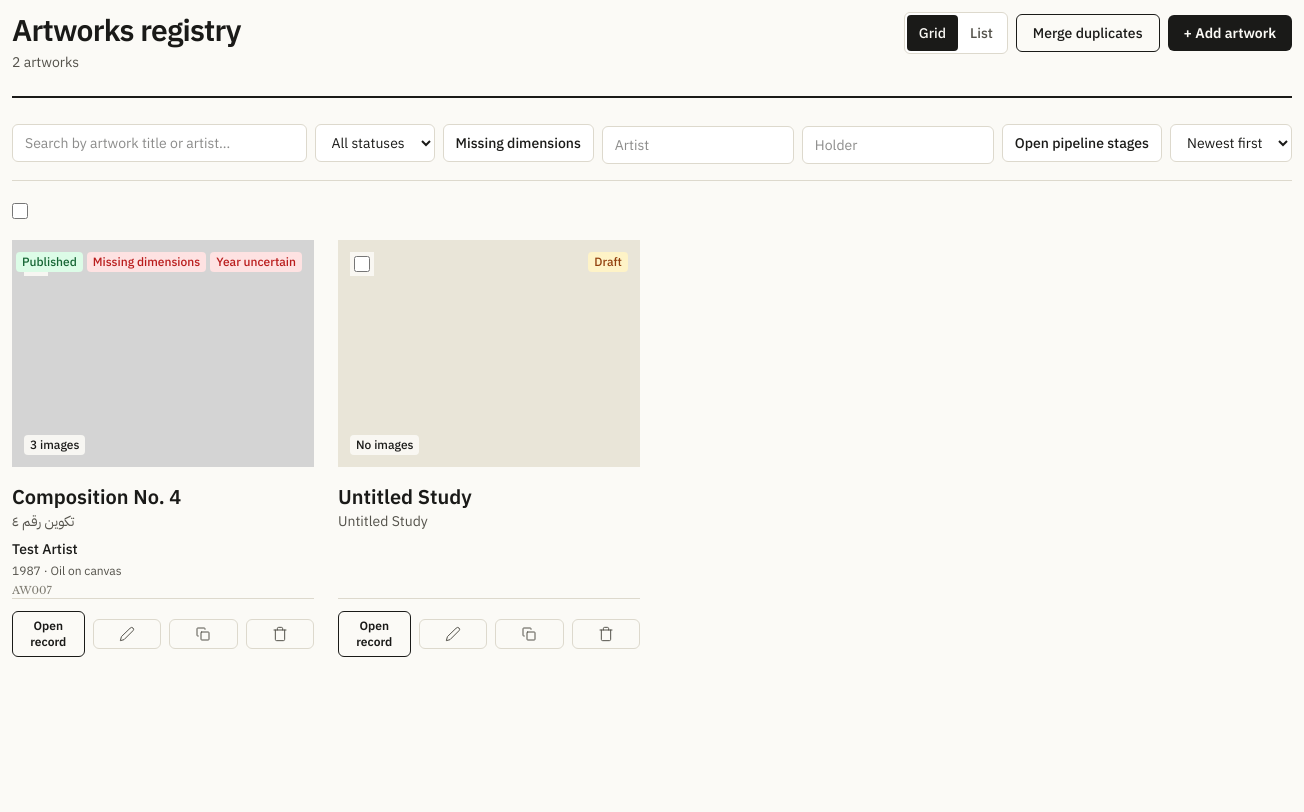
Test case: ArtworksRegistryPage view modes › exposes the same metadata in both layouts and links both to the detail page
The image size is (1304, 812).
Expected: the element with test id "artwork-card" shows "Composition No. 4", 12,482 -> 181,510
Expected: the element with test id "artwork-card" shows "تكوين رقم ٤", 12,512 -> 74,530
Click the button with test id "view-toggle-list".
click(981, 33)  # box 958,15 -> 1005,51
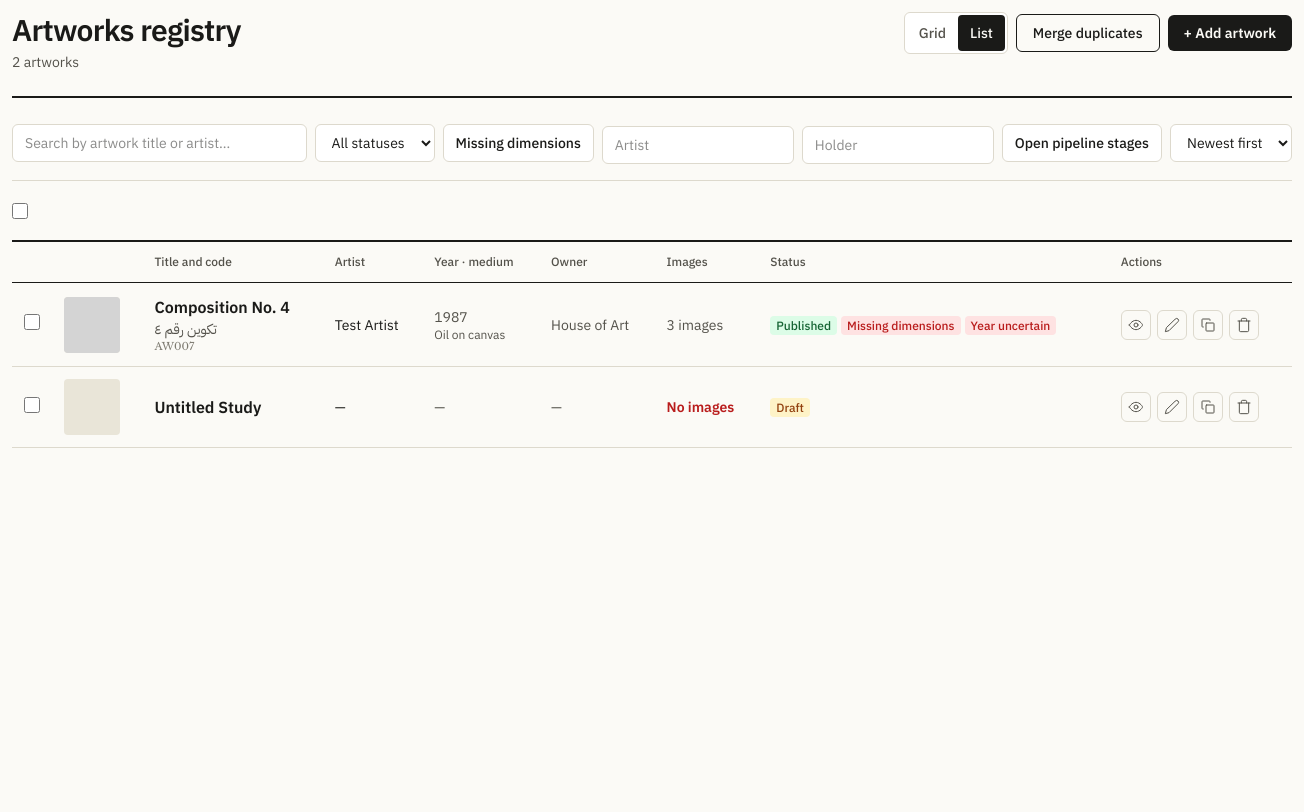
Expected: the row with test id "artwork-card" shows "Composition No. 4", 154,295 -> 311,319
Expected: the row with test id "artwork-card" shows "تكوين رقم ٤", 154,320 -> 217,338
Expected: the row with test id "artwork-card" shows "Test Artist", 335,316 -> 399,334
